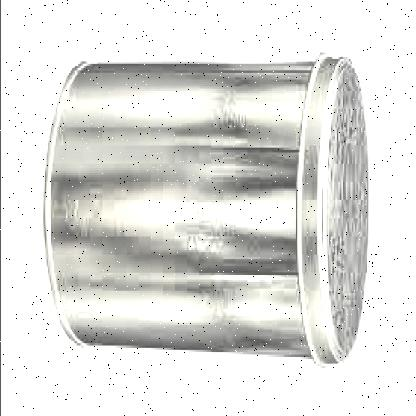Can: (18, 40, 372, 374)
